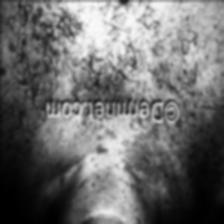Toxin: (0, 24, 178, 100), (52, 120, 172, 154)
